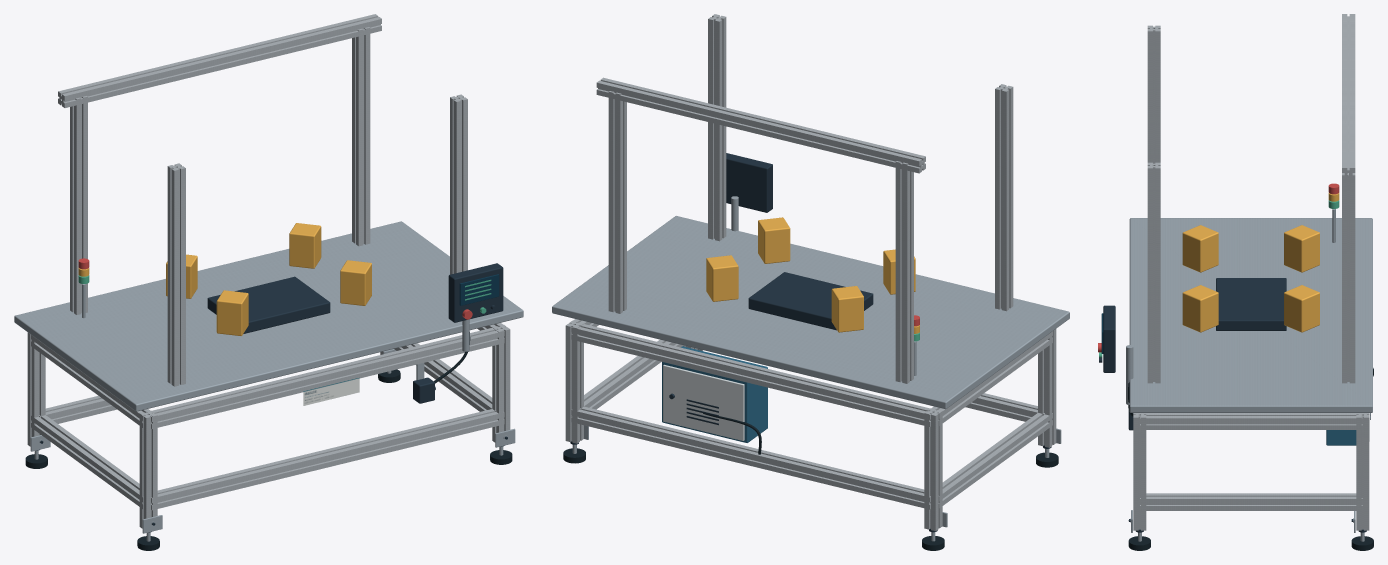
File: rigid-box-wrapper.glb
3 views of the same model, side by side, from view 1: azimuth 30°, elevation 25°; view 2: azimuth 150°, elevation 25°; view 3: azimuth 270°, elevation 25° (orthographic). The views are drawn at different scales.
Visible parts, largest first — view 1: Worktop_49, Extrusion_34, Extrusion_35, Extrusion_54, Extrusion_51, Extrusion_52, Extrusion_50, BoxNest_59, Extrusion_53, Extrusion_36, Extrusion_11, PanelBack_61 (+10 smaller); view 2: Worktop_49, Extrusion_33, Extrusion_32, Extrusion_54, BackAccessDoor_41, Extrusion_51, Extrusion_52, Extrusion_50, Extrusion_53, BoxNest_59, Extrusion_36, PanelBack_61 (+10 smaller); view 3: Worktop_49, Extrusion_38, Extrusion_39, BoxNest_59, Extrusion_53, Extrusion_52, Extrusion_54, Extrusion_51, Extrusion_19, Extrusion_27, CornerPad_58, CornerPad_56 (+4 smaller).
Boxes of the visible parts, x1,y1,x2,y2 form: Worktop_49: (14,221,523,411); Extrusion_34: (151,409,504,510); Extrusion_35: (145,326,504,428); Extrusion_54: (58,14,381,107); Extrusion_51: (167,163,185,386); Extrusion_52: (352,27,370,246); Extrusion_50: (70,96,87,314); BoxNest_59: (207,276,330,333); Extrusion_53: (450,94,467,274); Extrusion_36: (31,415,143,509); Extrusion_11: (139,410,157,528); PanelBack_61: (448,263,503,322); Worktop_49: (552,216,1069,409); Extrusion_33: (571,322,936,426); Extrusion_32: (571,406,930,509); Extrusion_54: (596,77,925,173); BackAccessDoor_41: (663,364,744,440); Extrusion_51: (995,84,1013,311); Extrusion_52: (608,91,626,313); Extrusion_50: (895,161,913,383); Extrusion_53: (708,14,726,241); BoxNest_59: (748,272,873,330); Extrusion_36: (938,413,1052,508); PanelBack_61: (726,153,772,212); Worktop_49: (1129,218,1372,412); Extrusion_38: (1140,493,1362,510); Extrusion_39: (1140,413,1362,429); BoxNest_59: (1216,278,1286,330); Extrusion_53: (1147,162,1160,383); Extrusion_52: (1342,177,1355,383); Extrusion_54: (1342,14,1355,179); Extrusion_51: (1147,25,1160,163); Extrusion_19: (1356,413,1369,530); Extrusion_27: (1133,413,1146,530); CornerPad_58: (1182,285,1218,332); CornerPad_56: (1182,225,1218,272).
Bounding box in the file's own units: 2.2 × 2.01 × 1.36.
11 materials, 3 textured.
